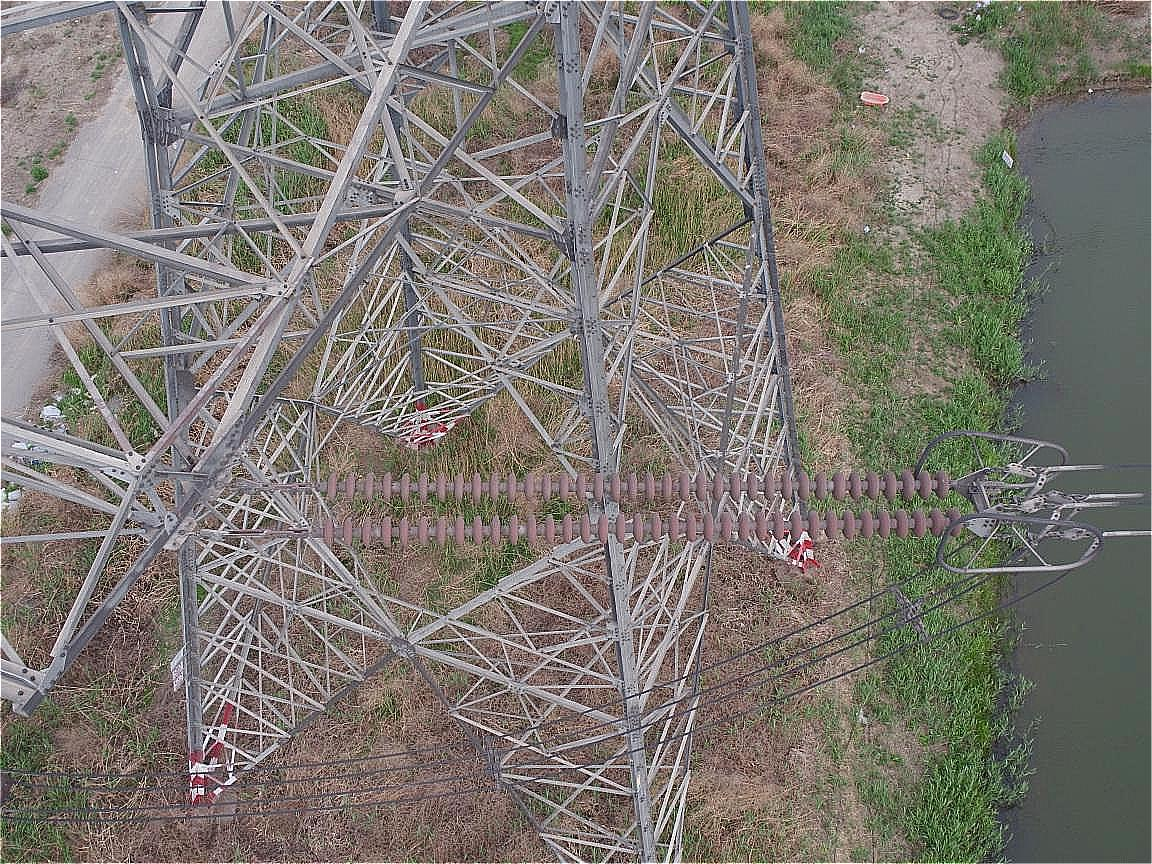insultor1: (289, 451, 965, 571)
